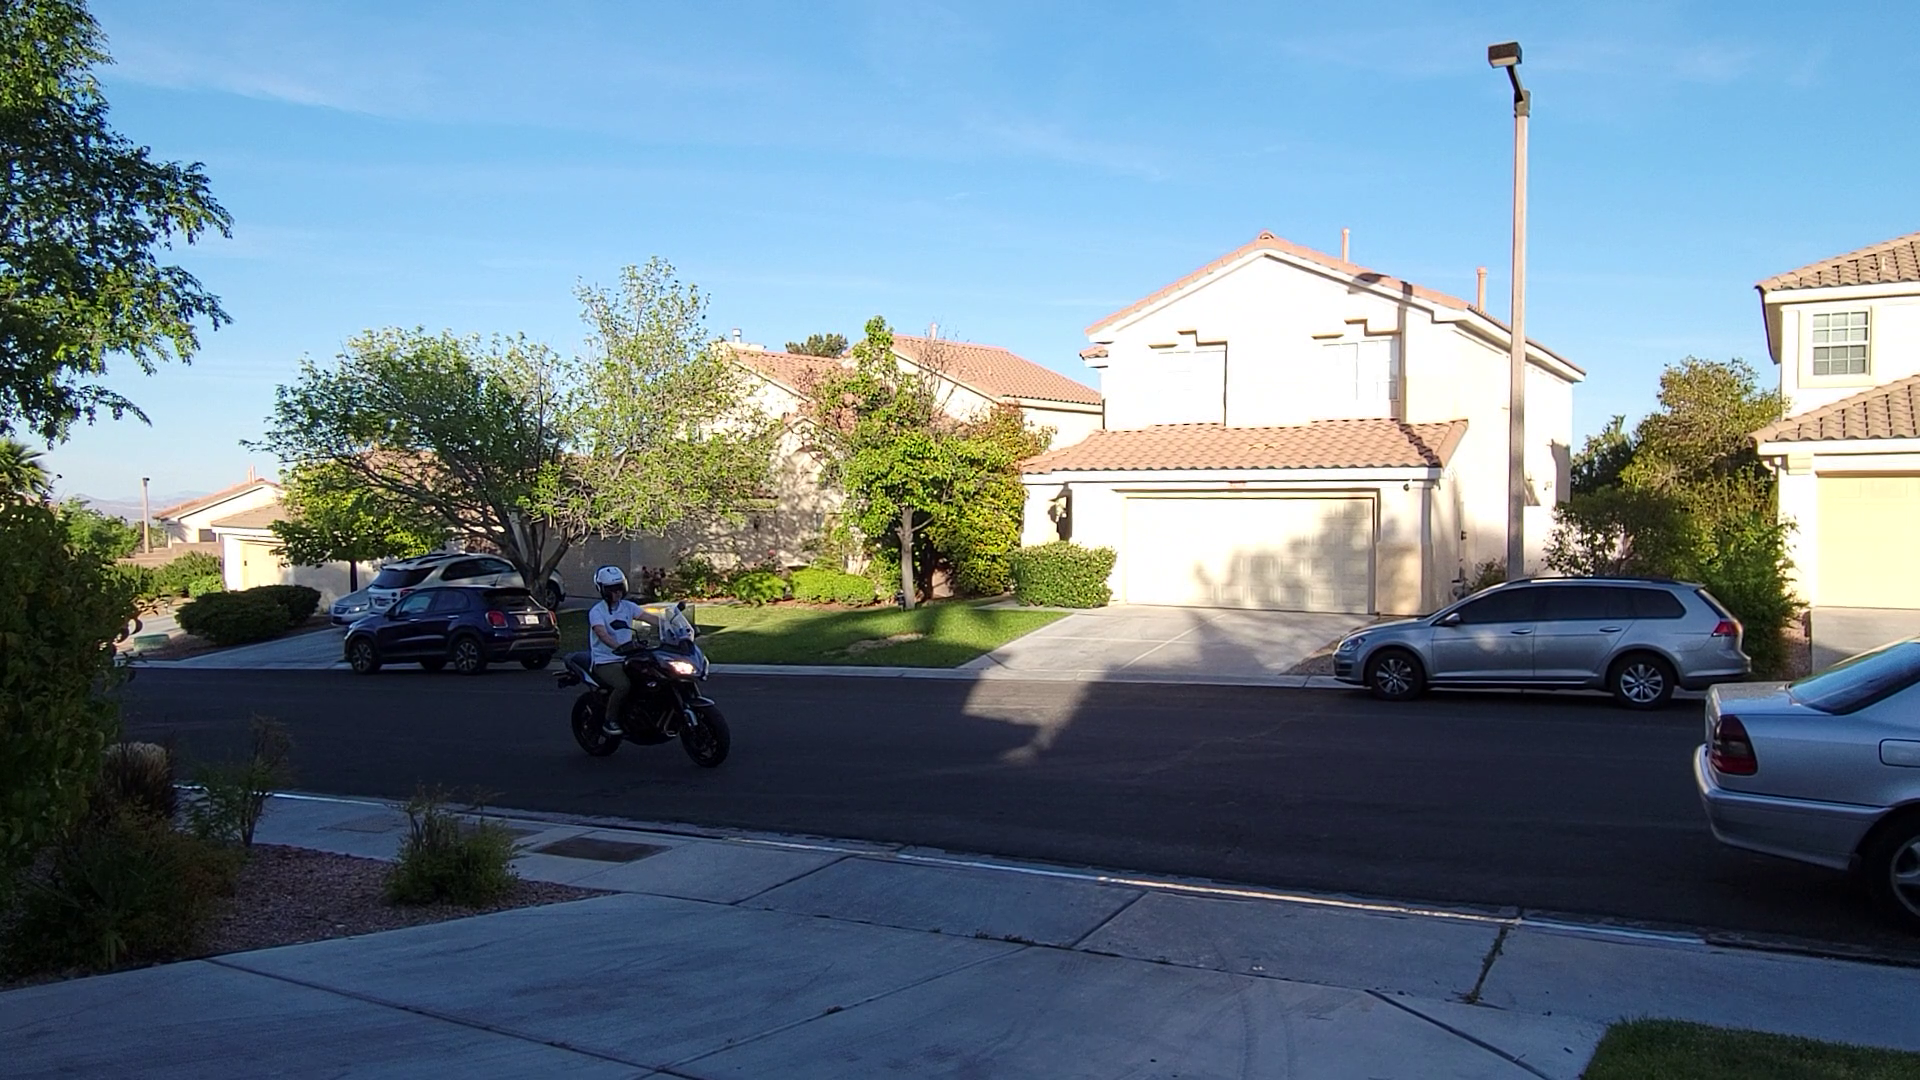my bike: (545, 558, 735, 770)
